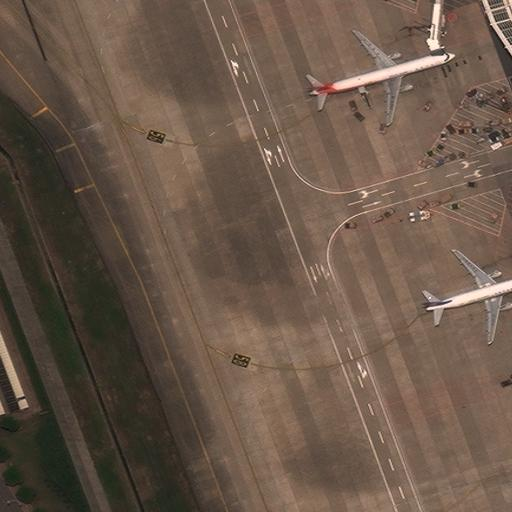Medium Civil Transport: (308, 30, 455, 123), (421, 248, 512, 342)
